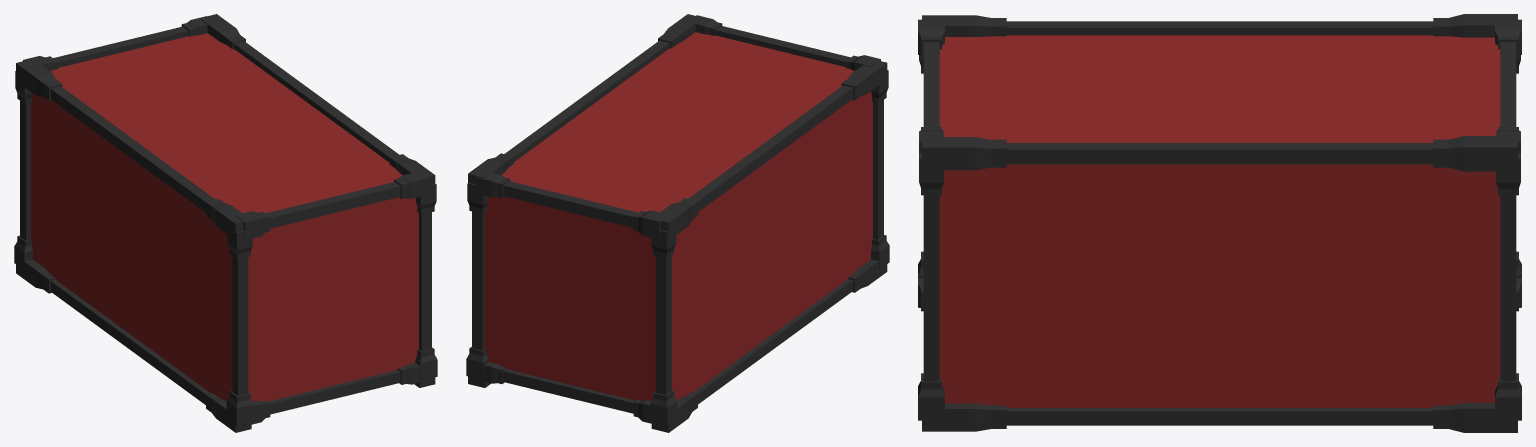
The model's file is ShippingContainer1.fbx.
3 renders of one model, left to right at view 1: azimuth 30°, elevation 25°; view 2: azimuth 150°, elevation 25°; view 3: azimuth 270°, elevation 25°, orthographic. The views are drawn at different scales.
Visible parts, largest first — view 1: block_default_5, structure_column_11, structure_column_10, structure_column_12, structure_column_8, structure_column_17, structure_column_9, structure_column_16, structure_column_7, structure_column_14; view 2: block_default_5, structure_column_11, structure_column_10, structure_column_12, structure_column_7, structure_column_14, structure_column_6, structure_column_15, structure_column_8, structure_column_17; view 3: block_default_5, structure_column_10, structure_column_13, structure_column_11, structure_column_9, structure_column_6, structure_column_17, structure_column_14.
Boxes of the visible parts, <box> form: block_default_5: <box>31,33,418,401</box>; structure_column_11: <box>16,59,243,237</box>; structure_column_10: <box>199,14,435,184</box>; structure_column_12: <box>16,259,251,432</box>; structure_column_8: <box>226,227,253,425</box>; structure_column_17: <box>235,172,428,240</box>; structure_column_9: <box>415,183,437,380</box>; structure_column_16: <box>243,362,428,426</box>; structure_column_7: <box>14,71,32,269</box>; structure_column_14: <box>23,16,207,71</box>; block_default_5: <box>485,32,872,400</box>; structure_column_11: <box>652,61,887,240</box>; structure_column_10: <box>468,14,702,184</box>; structure_column_12: <box>651,259,887,432</box>; structure_column_7: <box>650,229,677,424</box>; structure_column_14: <box>475,172,667,239</box>; structure_column_6: <box>466,183,488,379</box>; structure_column_15: <box>475,362,660,425</box>; structure_column_8: <box>871,70,889,269</box>; structure_column_17: <box>689,15,880,70</box>; block_default_5: <box>939,35,1500,407</box>; structure_column_10: <box>922,136,1517,171</box>; structure_column_13: <box>922,403,1517,432</box>; structure_column_11: <box>922,14,1517,37</box>; structure_column_9: <box>918,153,944,420</box>; structure_column_6: <box>1495,153,1521,420</box>; structure_column_17: <box>918,19,944,153</box>; structure_column_14: <box>1495,19,1521,153</box>.
Size of the model in its own units: 32.8 by 32.8 by 62.8.
